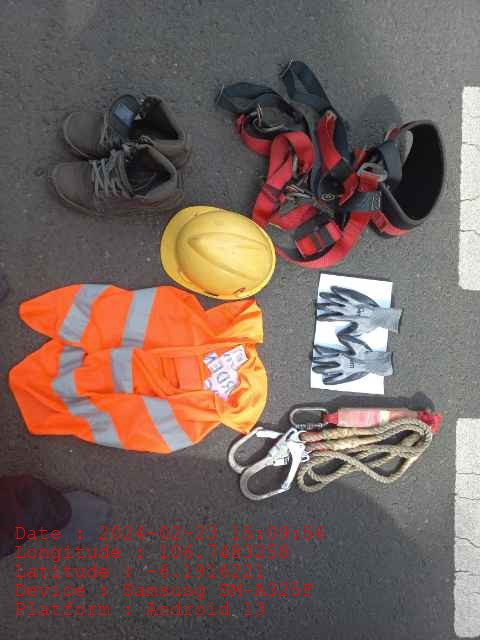HELM: (159, 205, 276, 299)
SARUNG TANGAN: (309, 279, 406, 386)
SEPATU: (52, 98, 181, 214)
TAMBANG_SLING: (229, 405, 439, 495)
